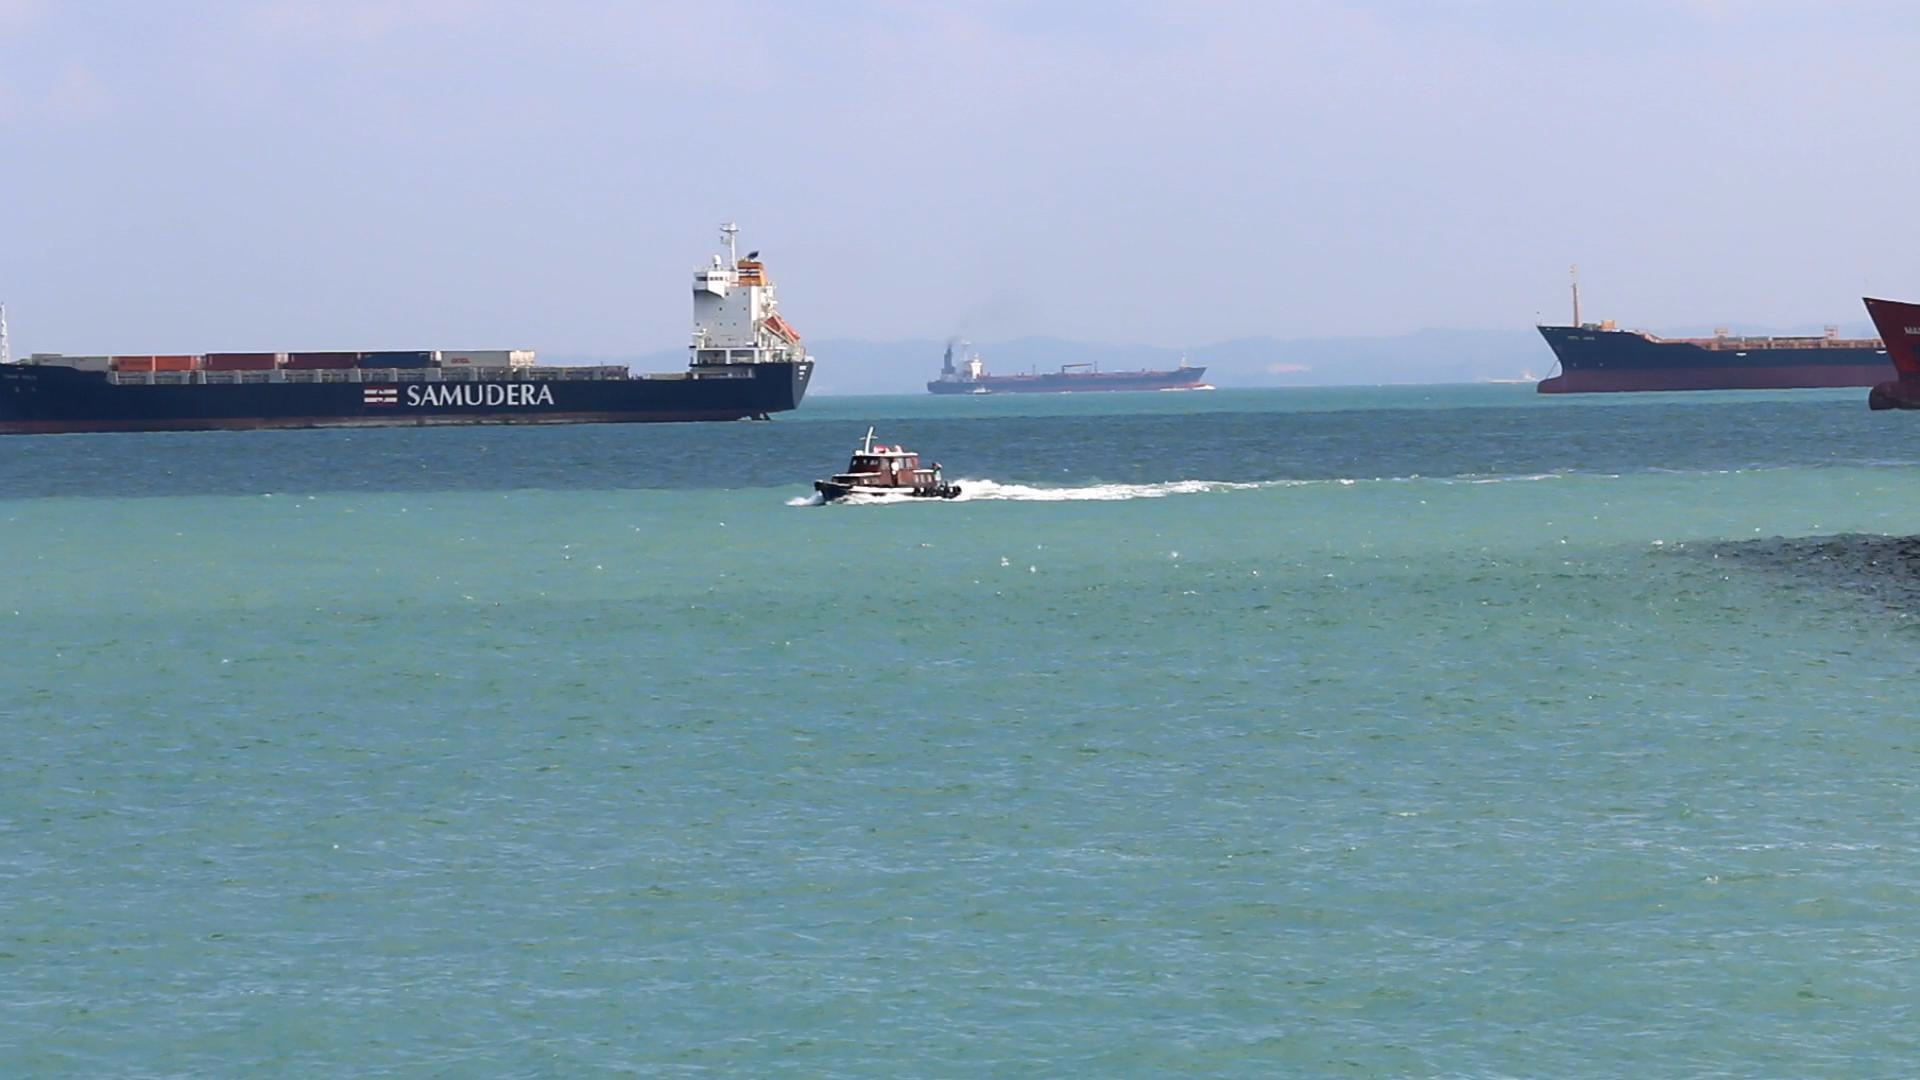Container Ship: (0, 215, 816, 434), (1534, 280, 1892, 396), (923, 339, 1209, 398), (1859, 291, 1920, 410)
